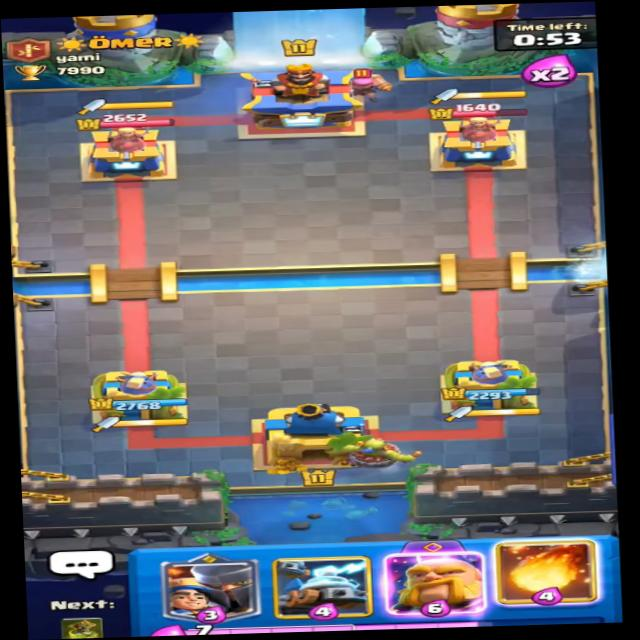firecracker: (337, 67, 397, 105)
